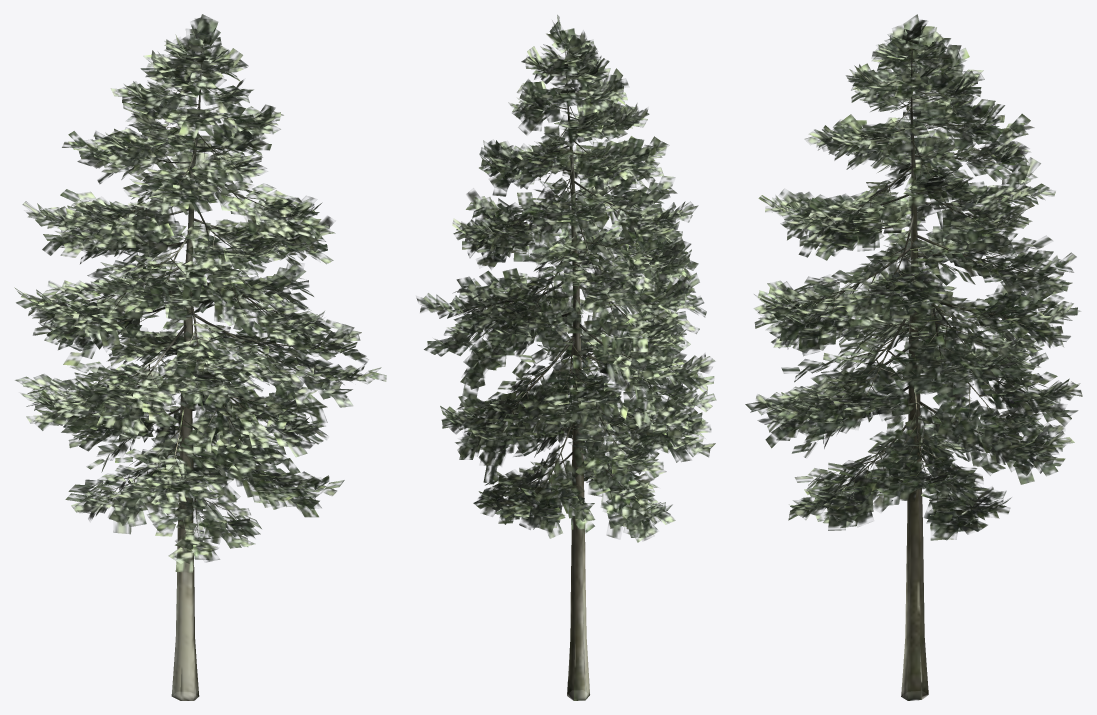
The model's file is tree.001.glb.
3 views of the same model, side by side, from view 1: azimuth 30°, elevation 25°; view 2: azimuth 150°, elevation 25°; view 3: azimuth 270°, elevation 25° (orthographic). The views are drawn at different scales.
Visible parts, largest first — view 1: TREE.037; view 2: TREE.037; view 3: TREE.037.
Part boxes in pixels (x1=…): TREE.037: x1=14, y1=14, x2=386, y2=700; TREE.037: x1=416, y1=15, x2=716, y2=700; TREE.037: x1=745, y1=14, x2=1082, y2=700.
Bounding box in the file's own units: 6.39 × 14.6 × 6.47.
1 material, 1 textured.
